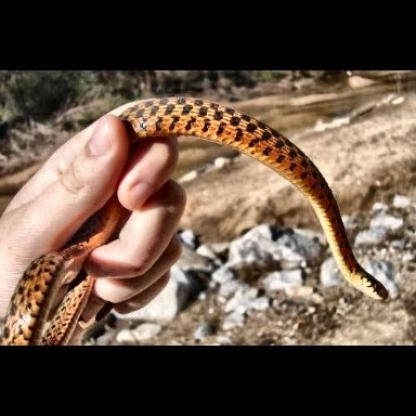Snake: (8, 94, 411, 342)
